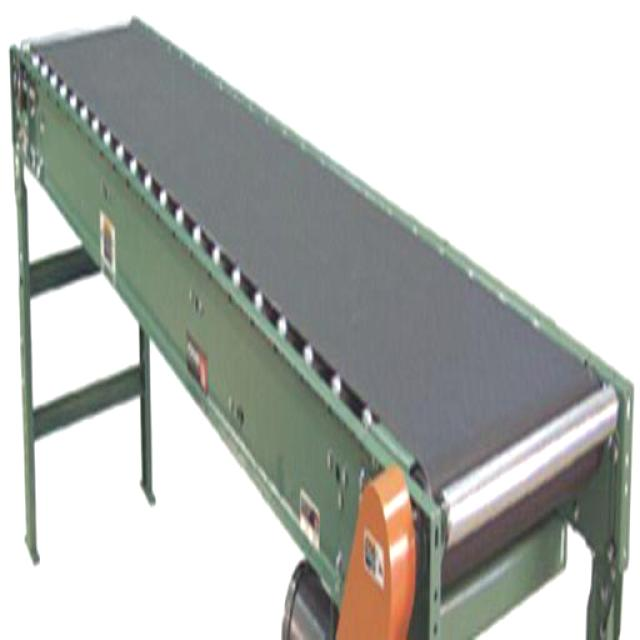conveyor: (16, 22, 615, 580)
